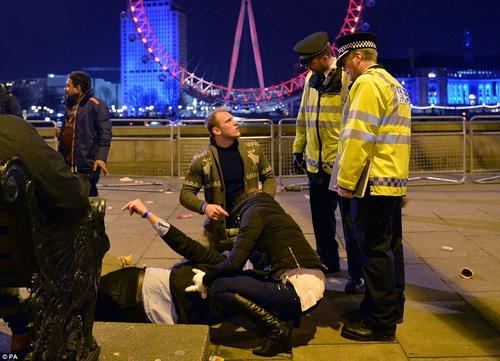falling: (22, 255, 264, 337)
